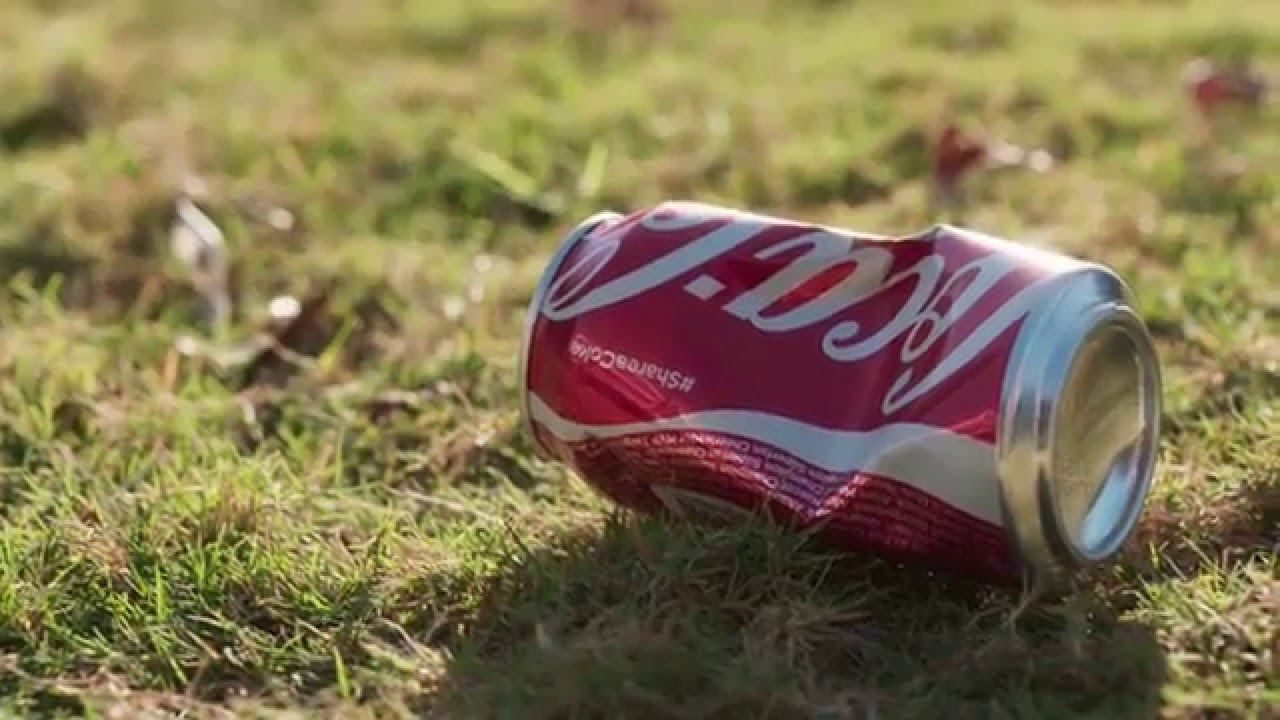can: (493, 181, 1189, 615)
